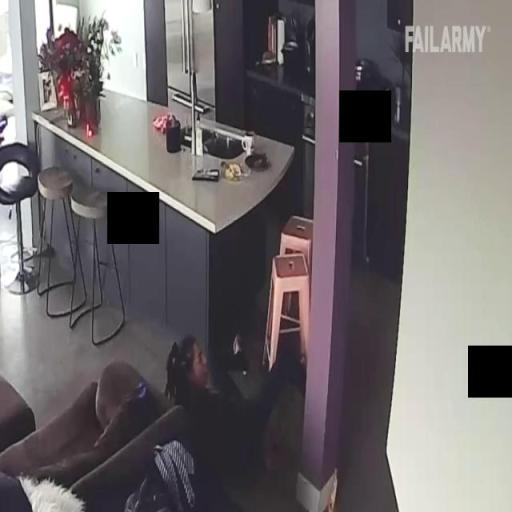Fall: (162, 326, 310, 484)
